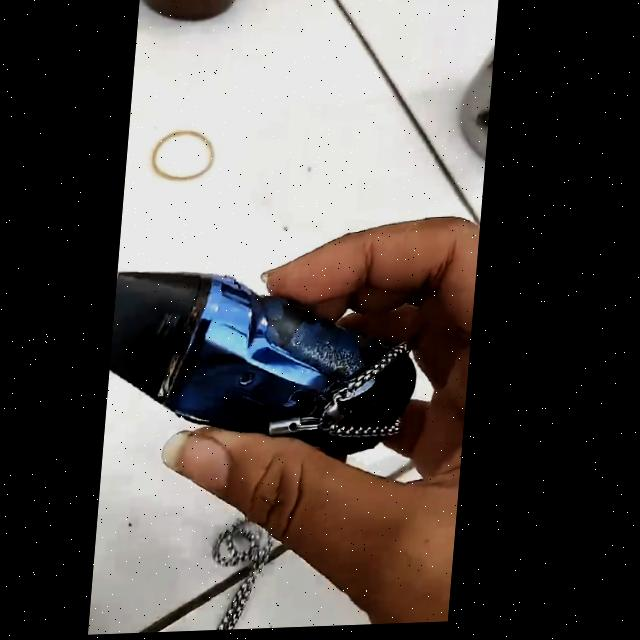vape: (110, 264, 432, 466)
